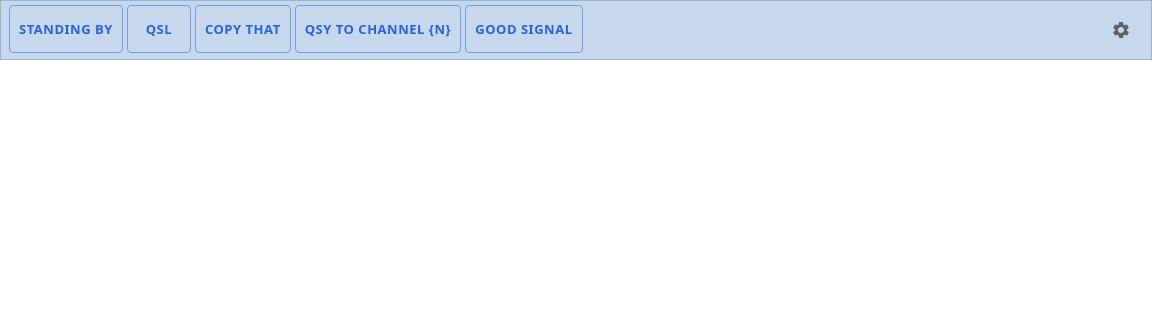
Test case: QuickMessages › edit mode › adds a new phrase when ADD is clicked
The width and height of the screenshot is (1152, 332).
Click the button named "edit quick messages" at (1121,30), box [1099,8,1143,52]
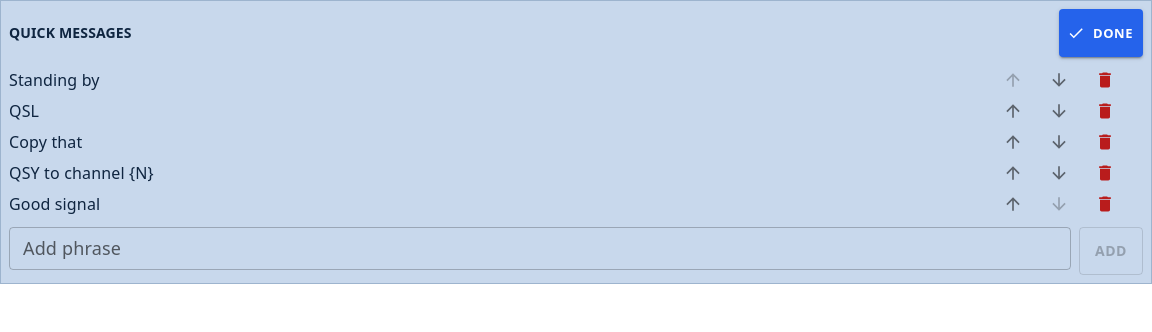
Type "New phrase" into the field labelled "Add phrase" at (540,249), box [9,227,1071,270]
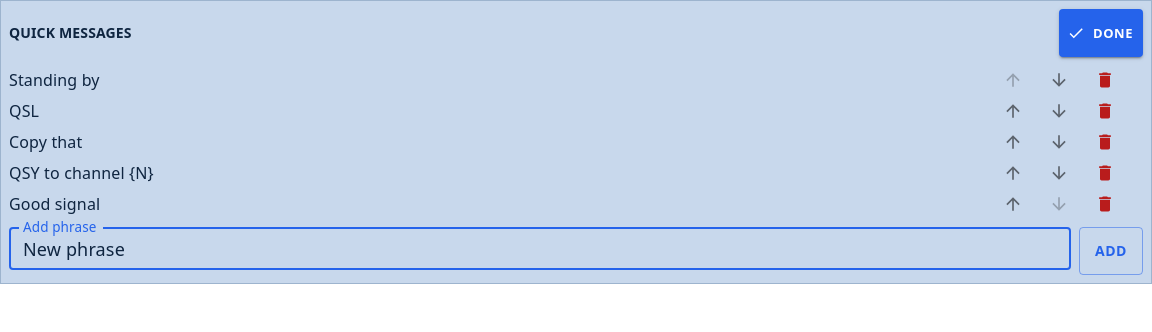
Click the button "ADD" at (1111,251), box [1079,227,1143,275]
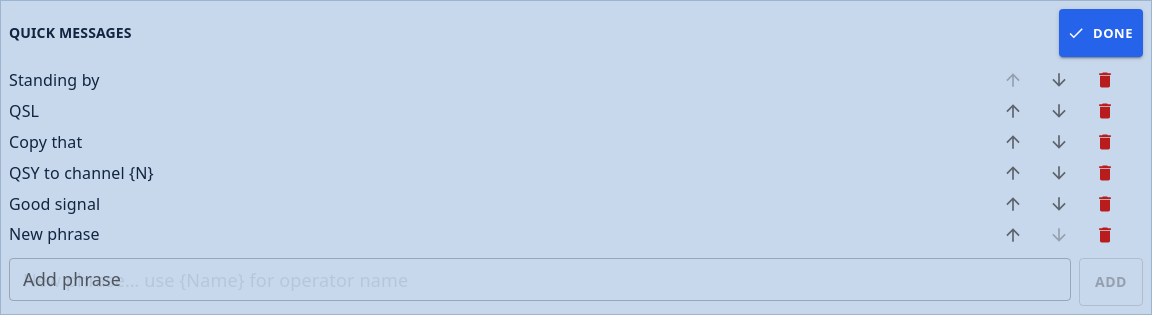
Check: the text "New phrase" is shown, box [9,223,100,245]
